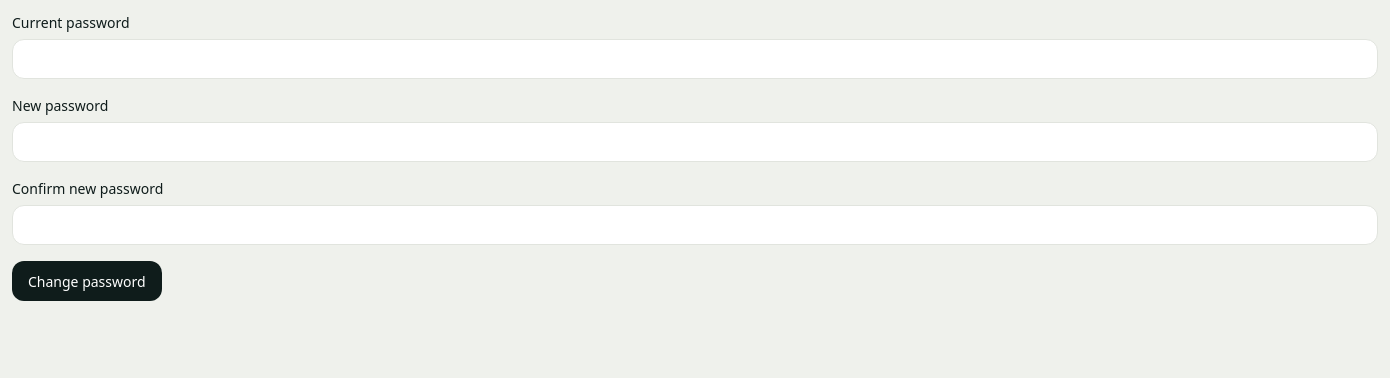
Test: ChangePasswordForm › blocks submit and shows a validation error when the new password is too short
In the password field labelled "Current password": (695, 59) [12,39,1378,79], type "CurrentPassword123"
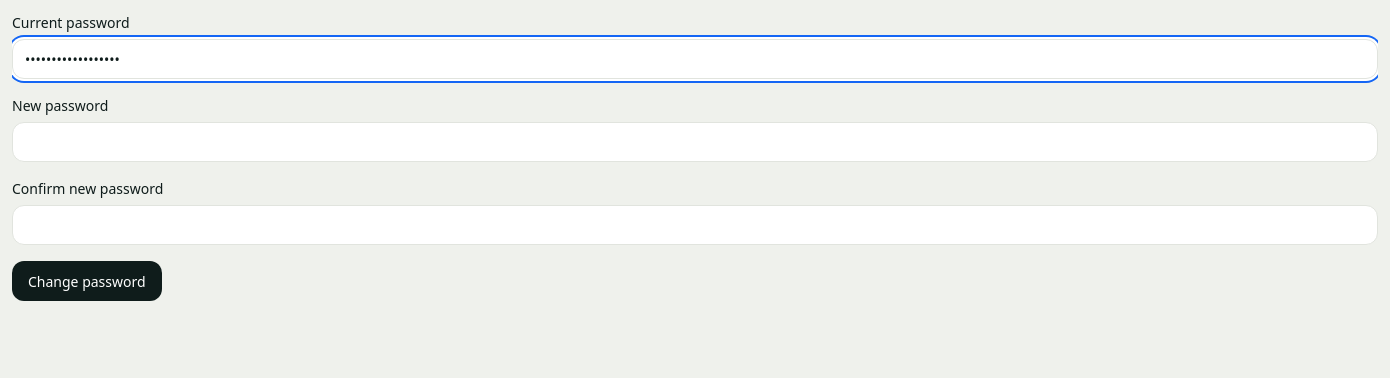
In the password field labelled "New password": (695, 142) [12,122,1378,162], type "Short1A"
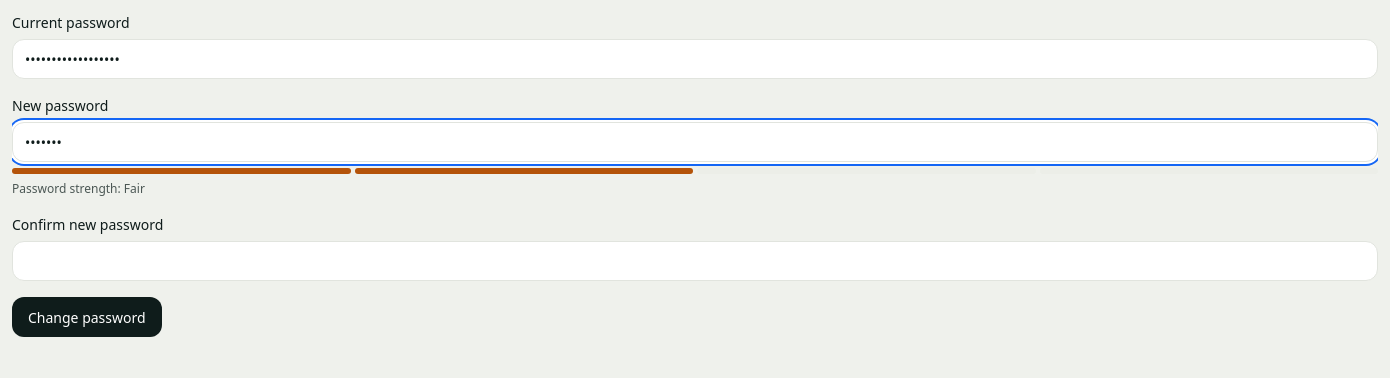
In the password field labelled "Confirm new password": (695, 261) [12,241,1378,281], type "Short1A"
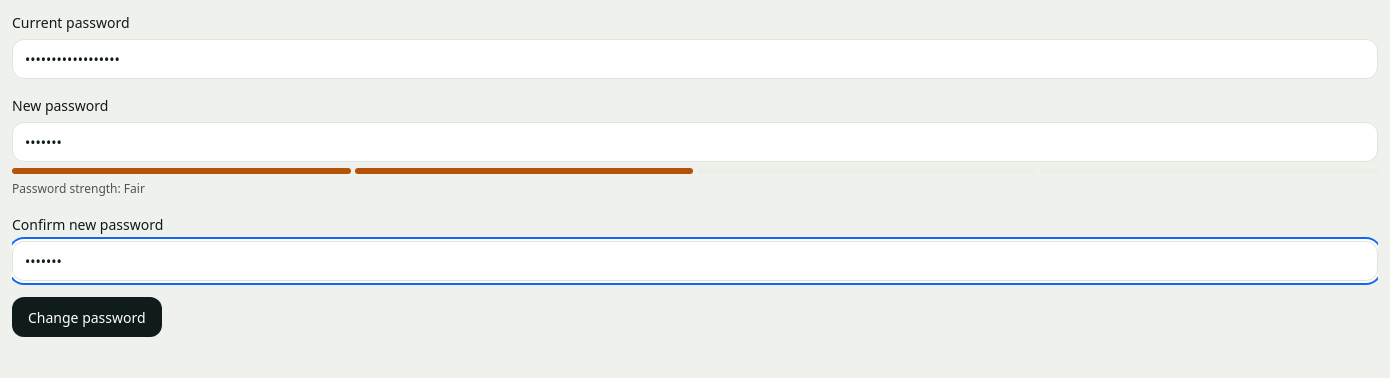
Click the button "Change password": (87, 317) [12,297,162,337]
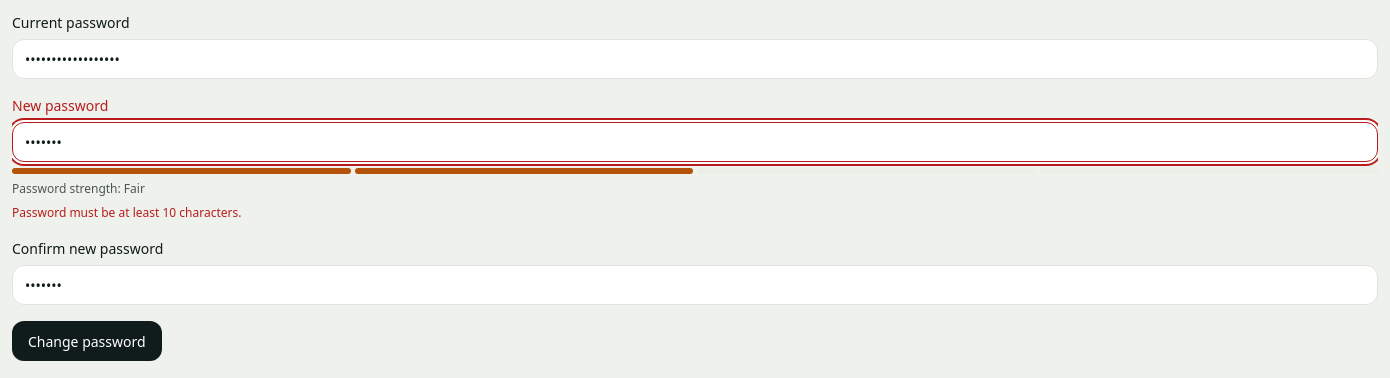
Check: the text "Password must be at least 10 characters." is shown, box [12,204,242,221]
